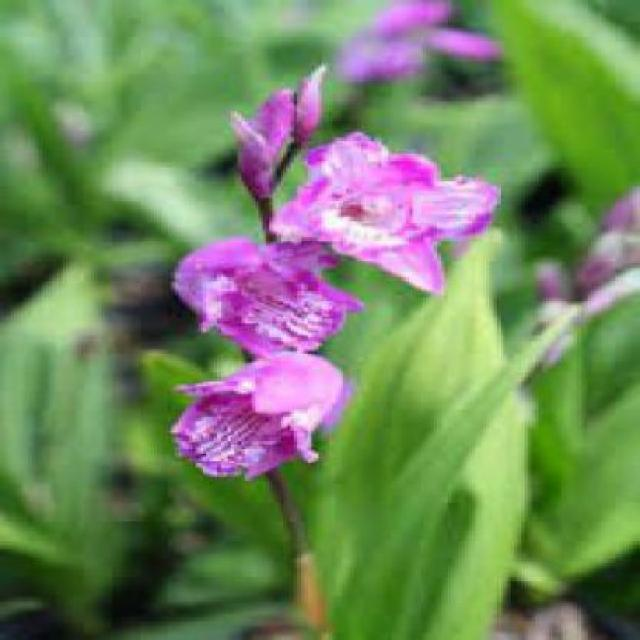Flower: (265, 130, 504, 298), (168, 239, 368, 361), (168, 352, 346, 479)
